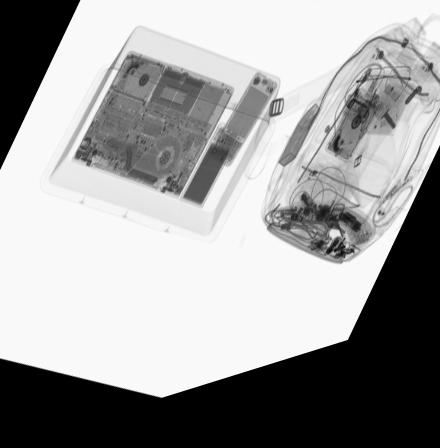Powerbank: (178, 137, 238, 219)
